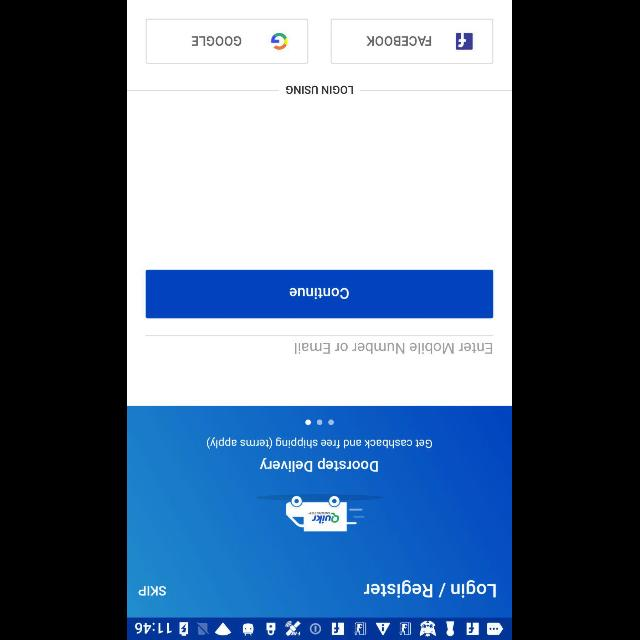image: (257, 494, 385, 532)
input: (146, 336, 494, 354)
pageindicator: (305, 418, 335, 426)
text: (207, 437, 433, 449), (364, 580, 496, 598), (296, 342, 492, 354), (260, 457, 378, 473), (286, 86, 354, 94), (139, 586, 167, 596)
textbutton: (146, 270, 494, 318), (146, 18, 310, 64), (331, 18, 494, 64)
uppertaskbar: (128, 617, 512, 639)
